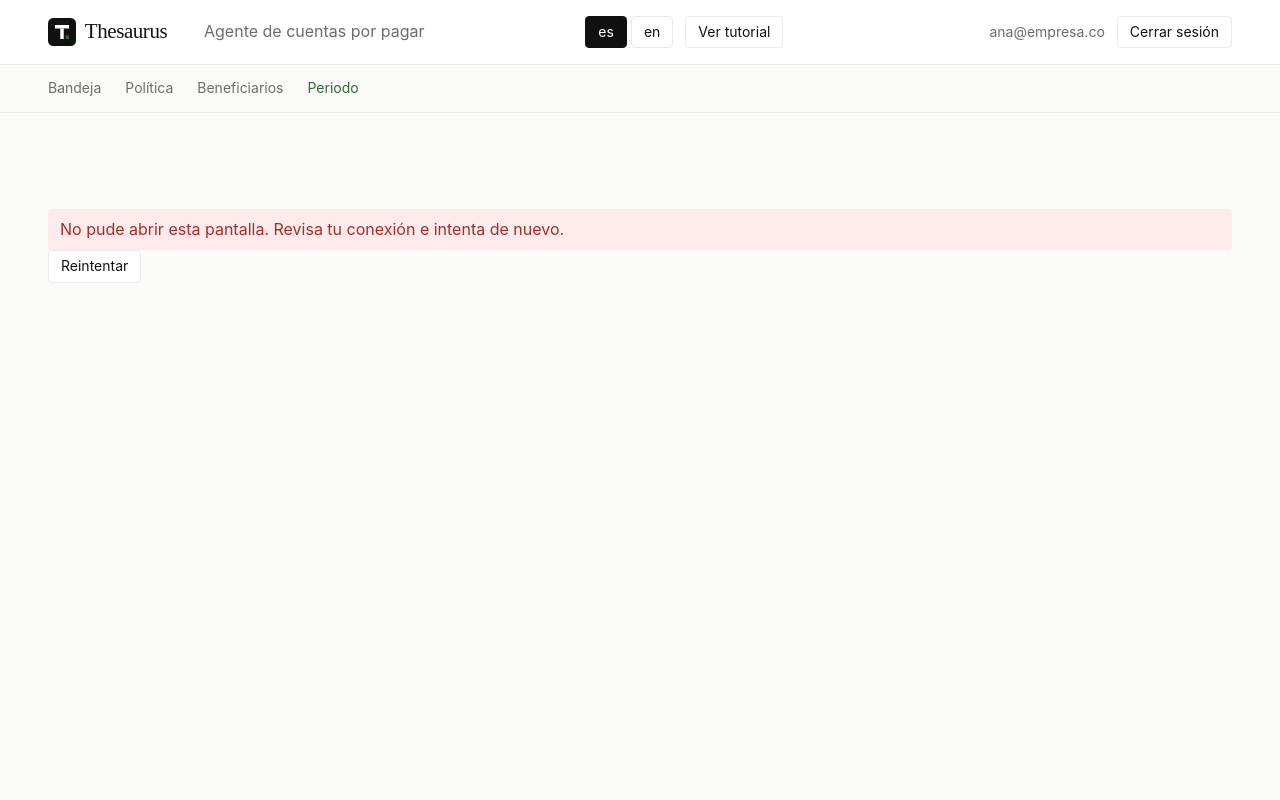
Scenario: two failing chunks in a row never blank the page; another screen still opens
Expected: the button "Reintentar" is shown, 48,250 -> 141,283
Click the link "Política": [149, 89] box 125,77 -> 173,100
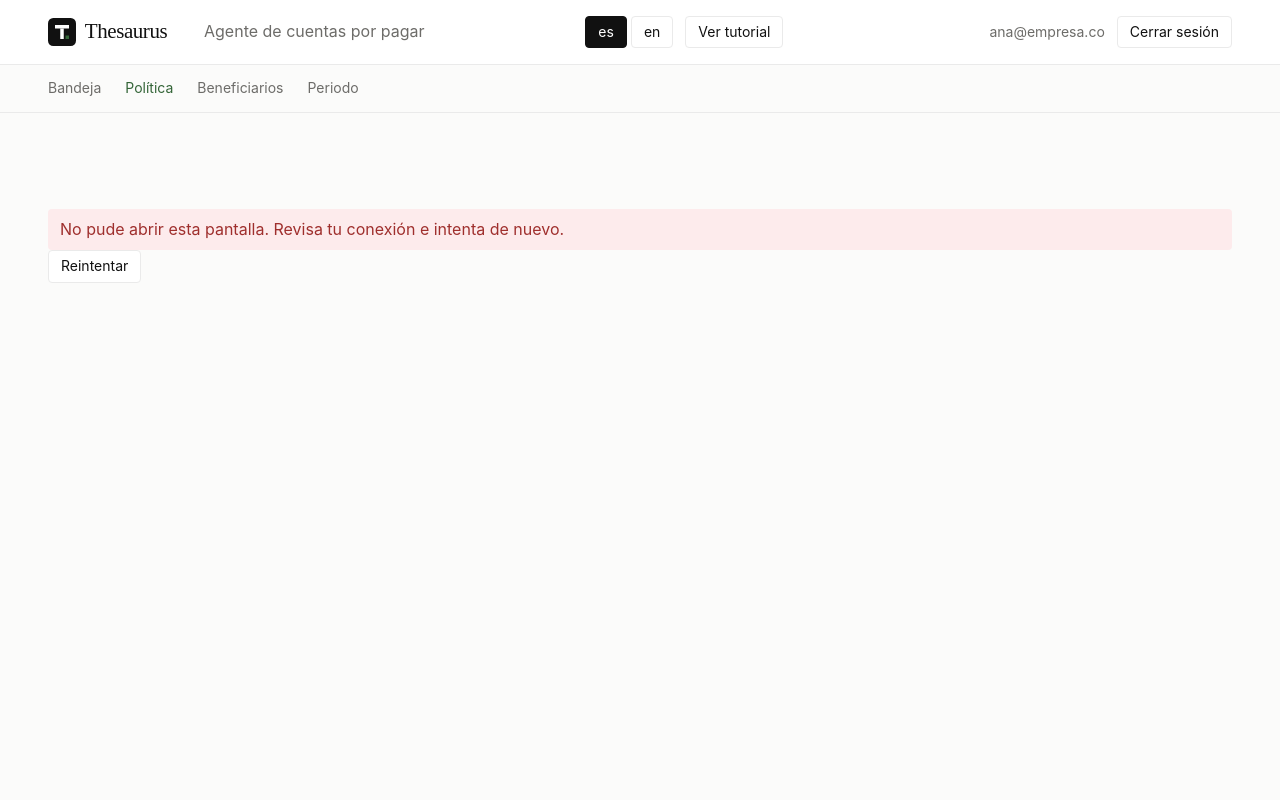
Expected: the button "Reintentar" is shown, 48,250 -> 141,283
Expected: the navigation bar named "Secciones" is shown, 0,65 -> 1279,113
Click the link "Bandeja": [75, 89] box 48,77 -> 101,100
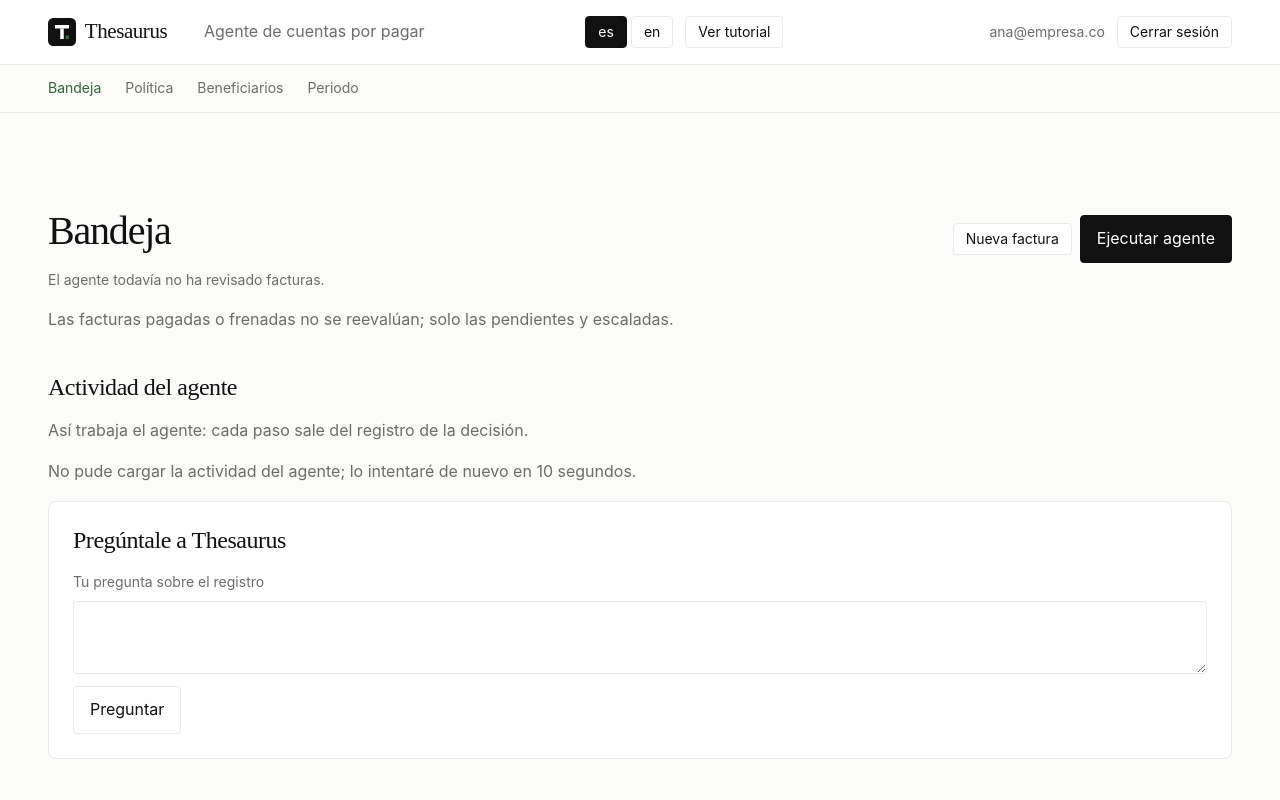
Expected: the heading "Bandeja" is shown, 48,209 -> 171,253
